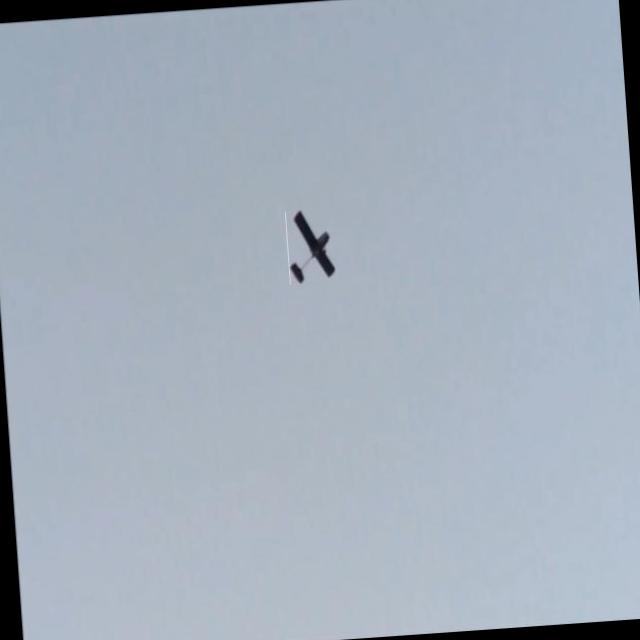UAV: (275, 201, 337, 319)
